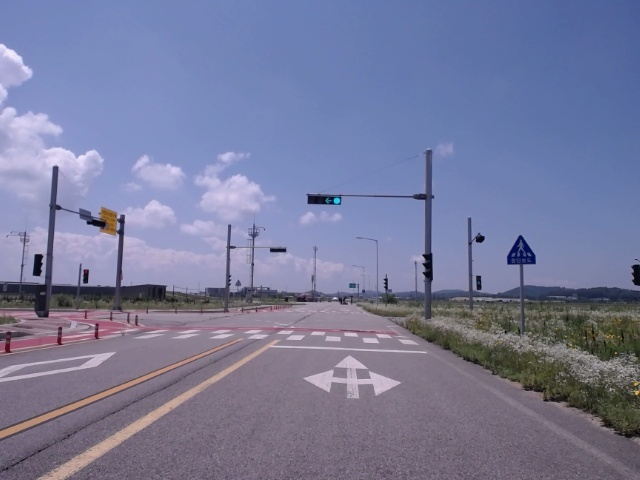all_green_4: (307, 194, 343, 205)
